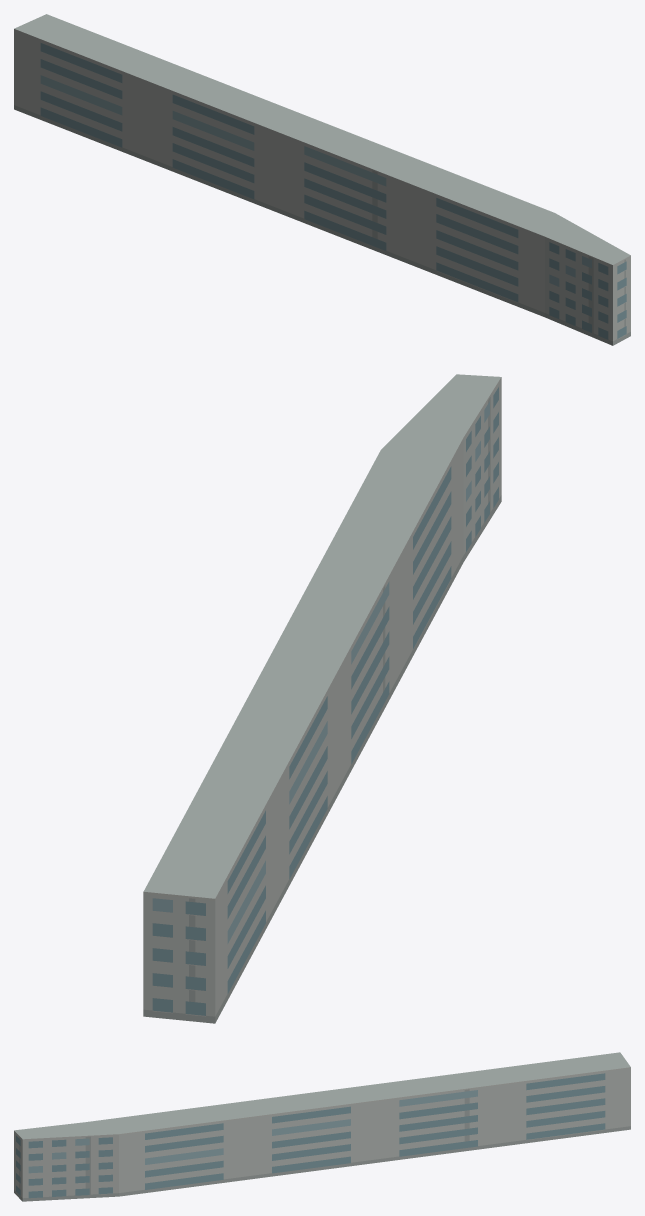
The model's file is survey-upis-32766183.glb.
3 renders of one model, top to bottom at view 1: azimuth 30°, elevation 25°; view 2: azimuth 150°, elevation 25°; view 3: azimuth 270°, elevation 25°, orthographic. The views are drawn at different scales.
Visible parts, largest first — view 1: survey-upis-32766183.tmp; view 2: survey-upis-32766183.tmp; view 3: survey-upis-32766183.tmp.
Part boxes in pixels (x1,y1,x2,y2): survey-upis-32766183.tmp: (14, 14, 630, 345); survey-upis-32766183.tmp: (143, 374, 501, 1023); survey-upis-32766183.tmp: (14, 1052, 630, 1201).
Size of the model in its own units: 45.57 by 15.25 by 137.
